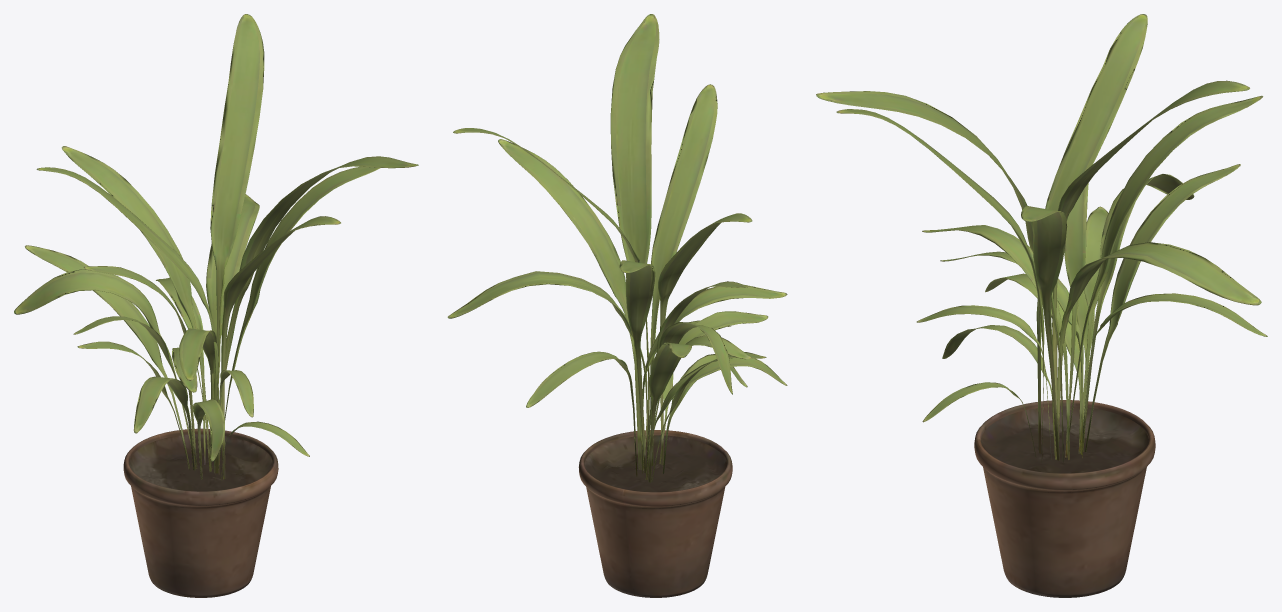
The model's file is office-palm.glb.
3 views of the same model, side by side, from view 1: azimuth 30°, elevation 25°; view 2: azimuth 150°, elevation 25°; view 3: azimuth 270°, elevation 25° (orthographic). The views are drawn at different scales.
Visible parts, largest first — view 1: Pflanze_Pflanzenmaterial_0; view 2: Pflanze_Pflanzenmaterial_0; view 3: Pflanze_Pflanzenmaterial_0.
Boxes of the visible parts, bbox=[...] form: Pflanze_Pflanzenmaterial_0: bbox=[14, 14, 418, 597]; Pflanze_Pflanzenmaterial_0: bbox=[447, 14, 787, 597]; Pflanze_Pflanzenmaterial_0: bbox=[816, 14, 1267, 597].
Bounding box in the file's own units: 172 × 254 × 187.
1 material, 1 textured.
